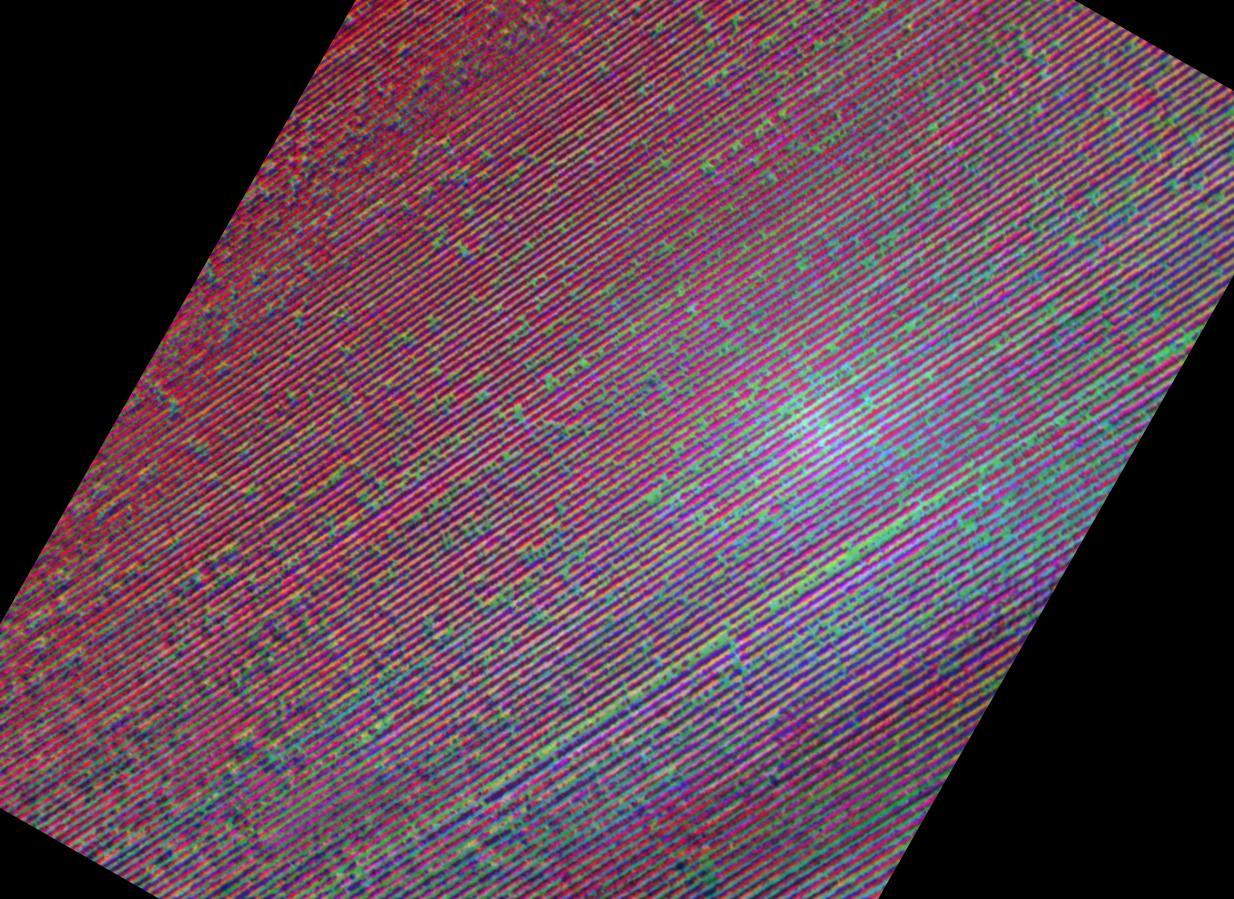dc: (676, 818, 792, 899), (750, 353, 841, 456)
